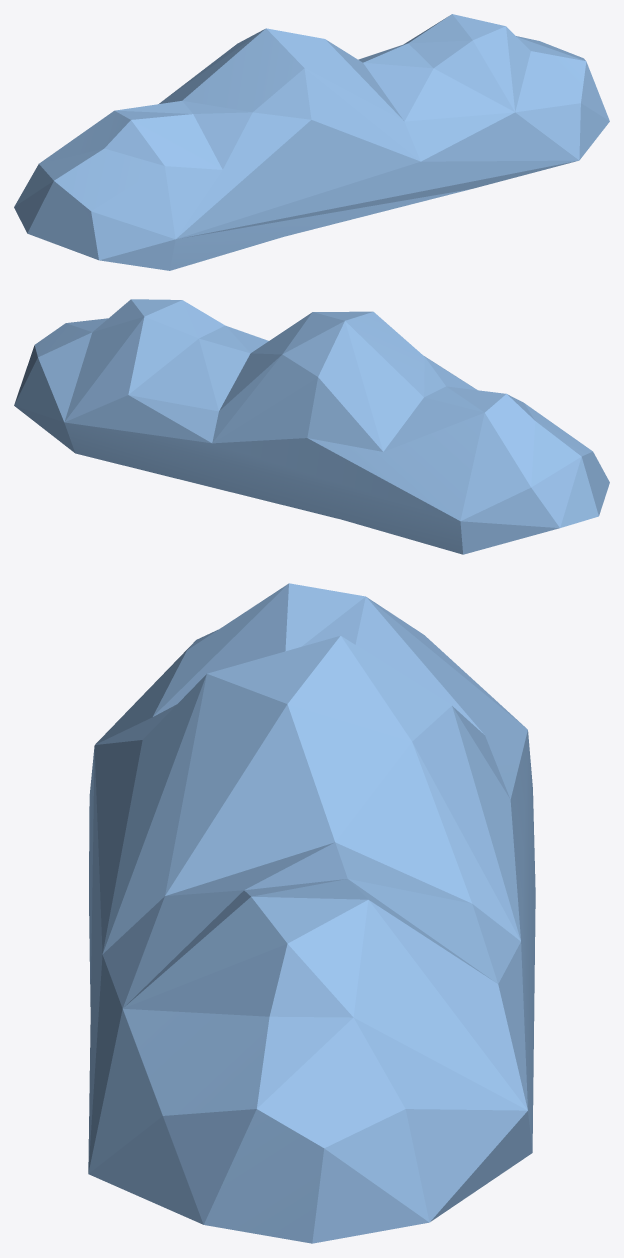
File: cloud_1.fbx
3 views of the same model, one above another, from view 1: azimuth 30°, elevation 25°; view 2: azimuth 150°, elevation 25°; view 3: azimuth 270°, elevation 25° (orthographic). The views are drawn at different scales.
Visible parts, largest first — view 1: cloud_1; view 2: cloud_1; view 3: cloud_1.
Part boxes in pixels (x1,y1,x2,y2): cloud_1: (14,14,609,270); cloud_1: (14,299,609,554); cloud_1: (88,583,535,1243).
Size of the model in its own units: 984 by 261 by 335.
